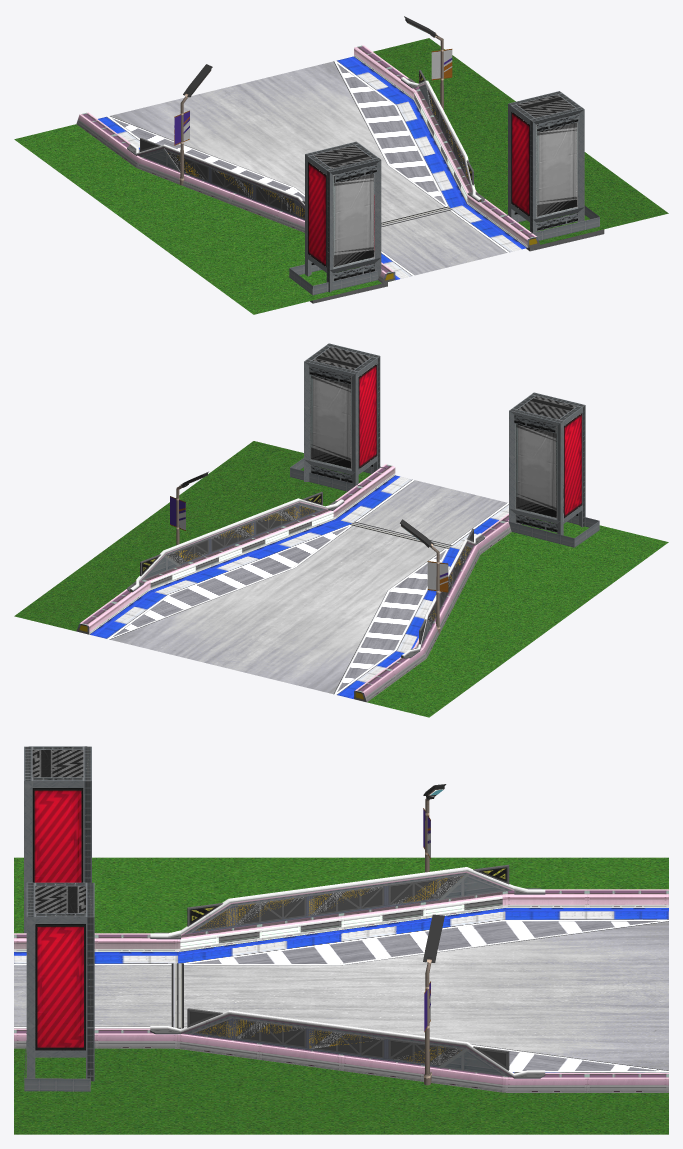
3 views of the same model, one above another, from view 1: azimuth 30°, elevation 25°; view 2: azimuth 150°, elevation 25°; view 3: azimuth 270°, elevation 25° (orthographic). The views are drawn at different scales.
Visible parts, largest first — view 1: transition_road, transition_ground_grass, pro_tall_banners__2_, pro_tall_banners__3_, wall_drift7, corner_arrows_steering, pro_streetlight_banners__1_, pro_streetlight_banners; view 2: transition_road, transition_ground_grass, pro_tall_banners__2_, pro_tall_banners__3_, wall_drift7, corner_arrows_steering, pro_streetlight_banners__1_, pro_streetlight_banners; view 3: transition_road, transition_ground_grass, wall_drift7, corner_arrows_steering, pro_tall_banners__3_, pro_tall_banners__2_, pro_streetlight_banners, middle_lines, pro_streetlight_banners__1_.
Part boxes in pixels (<box>): transition_road: <box>98,56,526,280</box>; transition_ground_grass: <box>14,38,668,314</box>; pro_tall_banners__2_: <box>289,141,387,303</box>; pro_tall_banners__3_: <box>504,91,604,251</box>; wall_drift7: <box>76,45,540,283</box>; corner_arrows_steering: <box>127,69,484,219</box>; pro_streetlight_banners__1_: <box>174,64,212,185</box>; pro_streetlight_banners: <box>404,16,452,110</box>; transition_road: <box>89,475,508,698</box>; transition_ground_grass: <box>14,441,668,717</box>; pro_tall_banners__2_: <box>503,392,599,547</box>; pro_tall_banners__3_: <box>290,343,385,491</box>; wall_drift7: <box>76,464,529,702</box>; corner_arrows_steering: <box>127,491,484,658</box>; pro_streetlight_banners__1_: <box>400,519,448,633</box>; pro_streetlight_banners: <box>170,471,208,545</box>; transition_road: <box>14,908,668,1072</box>; transition_ground_grass: <box>14,857,668,1134</box>; wall_drift7: <box>14,889,668,1092</box>; corner_arrows_steering: <box>150,864,545,1078</box>; pro_tall_banners__3_: <box>24,882,94,1091</box>; pro_tall_banners__2_: <box>24,746,91,933</box>; pro_streetlight_banners: <box>423,914,444,1085</box>; middle_lines: <box>171,963,183,1028</box>; pro_streetlight_banners__1_: <box>423,784,446,872</box>.
Size of the model in its own units: 6400 by 1863 by 6400.
